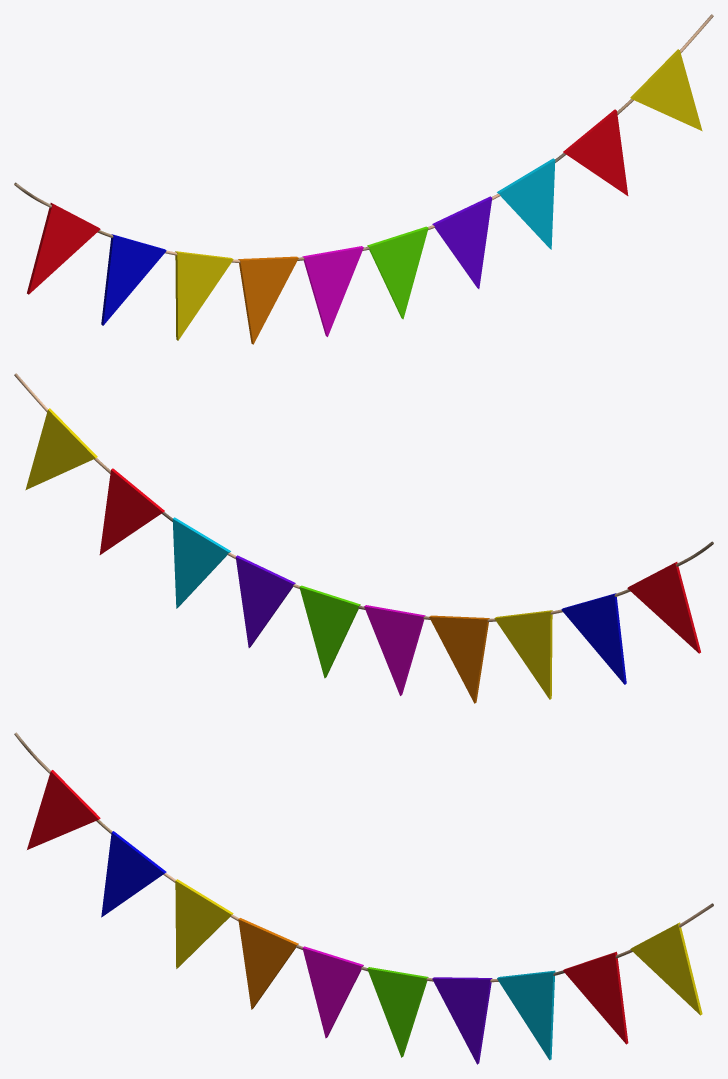
File: Banderin largo.fbx
3 views of the same model, one above another, from view 1: azimuth 30°, elevation 25°; view 2: azimuth 150°, elevation 25°; view 3: azimuth 330°, elevation 25° (orthographic).
Parts seen in each view (by area): view 1: Banderin triangular.007, Banderin triangular.006, Banderin triangular.008, Banderin triangular.001, Banderin triangular.009, Banderin triangular, Banderin triangular.002, Banderin triangular.003, Banderin triangular.005, Banderin triangular.004, Cuerda; view 2: Banderin triangular.007, Banderin triangular.006, Banderin triangular.008, Banderin triangular.001, Banderin triangular.009, Banderin triangular, Banderin triangular.002, Banderin triangular.003, Banderin triangular.005, Banderin triangular.004, Cuerda; view 3: Banderin triangular.002, Banderin triangular.004, Banderin triangular.003, Banderin triangular, Banderin triangular.005, Banderin triangular.001, Banderin triangular.006, Banderin triangular.007, Banderin triangular.009, Banderin triangular.008, Cuerda.
Part boxes in pixels (x1=…): Banderin triangular.007: x1=175, y1=251, x2=233, y2=340; Banderin triangular.006: x1=238, y1=256, x2=298, y2=344; Banderin triangular.008: x1=101, y1=234, x2=166, y2=325; Banderin triangular.001: x1=302, y1=246, x2=363, y2=336; Banderin triangular.009: x1=27, y1=203, x2=100, y2=294; Banderin triangular: x1=367, y1=226, x2=428, y2=319; Banderin triangular.002: x1=432, y1=196, x2=492, y2=288; Banderin triangular.003: x1=497, y1=158, x2=555, y2=249; Banderin triangular.005: x1=630, y1=49, x2=702, y2=131; Banderin triangular.004: x1=563, y1=109, x2=628, y2=195; Cuerda: x1=14, y1=14, x2=713, y2=262; Banderin triangular.007: x1=494, y1=610, x2=552, y2=699; Banderin triangular.006: x1=429, y1=615, x2=489, y2=703; Banderin triangular.008: x1=561, y1=593, x2=626, y2=684; Banderin triangular.001: x1=364, y1=605, x2=425, y2=695; Banderin triangular.009: x1=627, y1=562, x2=700, y2=653; Banderin triangular: x1=299, y1=585, x2=360, y2=678; Banderin triangular.002: x1=235, y1=555, x2=295, y2=647; Banderin triangular.003: x1=172, y1=517, x2=230, y2=608; Banderin triangular.005: x1=25, y1=408, x2=97, y2=490; Banderin triangular.004: x1=99, y1=468, x2=164, y2=554; Cuerda: x1=14, y1=373, x2=713, y2=621; Banderin triangular.002: x1=432, y1=977, x2=492, y2=1064; Banderin triangular.004: x1=563, y1=951, x2=628, y2=1044; Banderin triangular.003: x1=497, y1=970, x2=555, y2=1060; Banderin triangular: x1=367, y1=967, x2=428, y2=1057; Banderin triangular.005: x1=630, y1=922, x2=702, y2=1015; Banderin triangular.001: x1=302, y1=946, x2=363, y2=1038; Banderin triangular.006: x1=238, y1=918, x2=298, y2=1009; Banderin triangular.007: x1=175, y1=879, x2=233, y2=968; Banderin triangular.009: x1=27, y1=770, x2=100, y2=849; Banderin triangular.008: x1=101, y1=831, x2=166, y2=917; Cuerda: x1=14, y1=732, x2=713, y2=982.
Bounding box in the file's own units: 1337 × 421 × 6.69.
9 materials, 1 textured.
